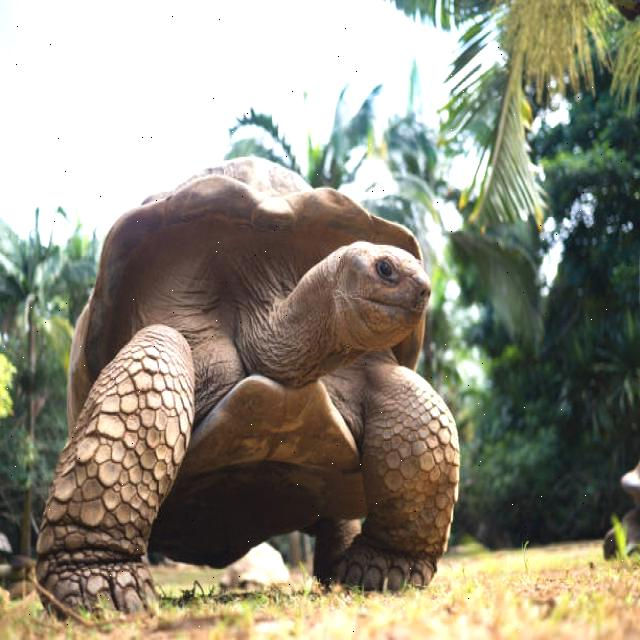tortoise: (22, 152, 464, 626)
